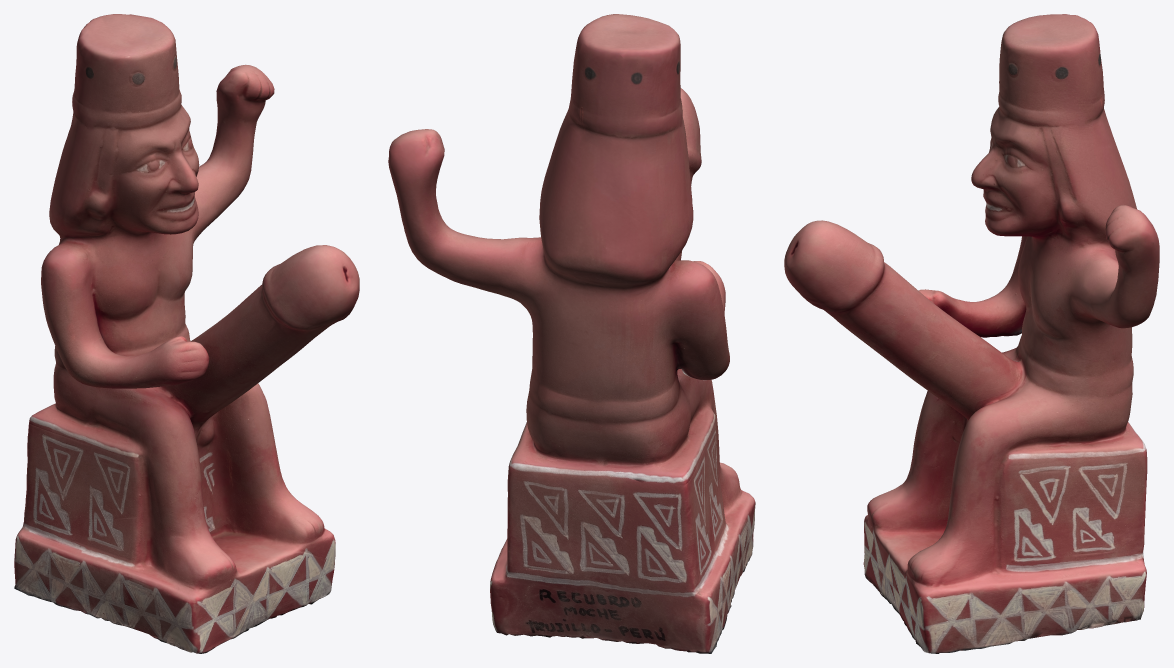
Rendered from hueco_erotico_2.glb.
The picture shows the model from 3 angles, left to right: view 1: azimuth 30°, elevation 25°; view 2: azimuth 150°, elevation 25°; view 3: azimuth 270°, elevation 25°; orthographic projection. The views are drawn at different scales.
Parts seen in each view (by area): view 1: Object_3, Object_5, Object_6, Object_4, Object_2, Object_7; view 2: Object_3, Object_5, Object_6, Object_4, Object_7, Object_2; view 3: Object_5, Object_3, Object_6, Object_2, Object_7, Object_4.
Part boxes in pixels (box(x1,y1,x2,y2)): Object_3: box(14, 49, 352, 622); Object_5: box(27, 14, 347, 653); Object_6: box(14, 177, 324, 618); Object_4: box(15, 84, 300, 600); Object_2: box(43, 46, 333, 619); Object_7: box(56, 225, 359, 413); Object_3: box(425, 36, 741, 653); Object_5: box(432, 14, 755, 641); Object_6: box(517, 104, 731, 653); Object_4: box(388, 138, 754, 652); Object_7: box(495, 425, 674, 638); Object_2: box(396, 46, 751, 653); Object_5: box(784, 14, 1147, 653); Object_3: box(789, 34, 1146, 583); Object_6: box(977, 224, 1138, 453); Object_2: box(865, 32, 1151, 650); Object_7: box(784, 215, 1097, 532); Object_4: box(878, 173, 1159, 652).
Bounding box in the file's own units: 10.7 × 20.49 × 12.53.
7 materials, 6 textured.
